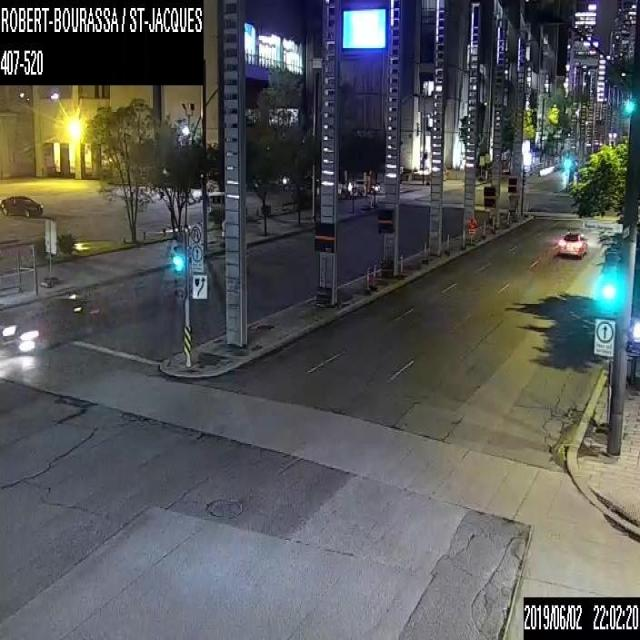construction: (465, 215, 476, 243), (445, 230, 450, 250), (399, 255, 403, 273), (423, 240, 426, 261), (366, 269, 369, 288), (506, 211, 510, 225), (492, 215, 495, 233), (372, 267, 375, 284), (514, 207, 517, 220)
vehicle: (0, 295, 90, 353), (0, 195, 42, 217), (556, 229, 588, 256), (346, 179, 379, 192)
